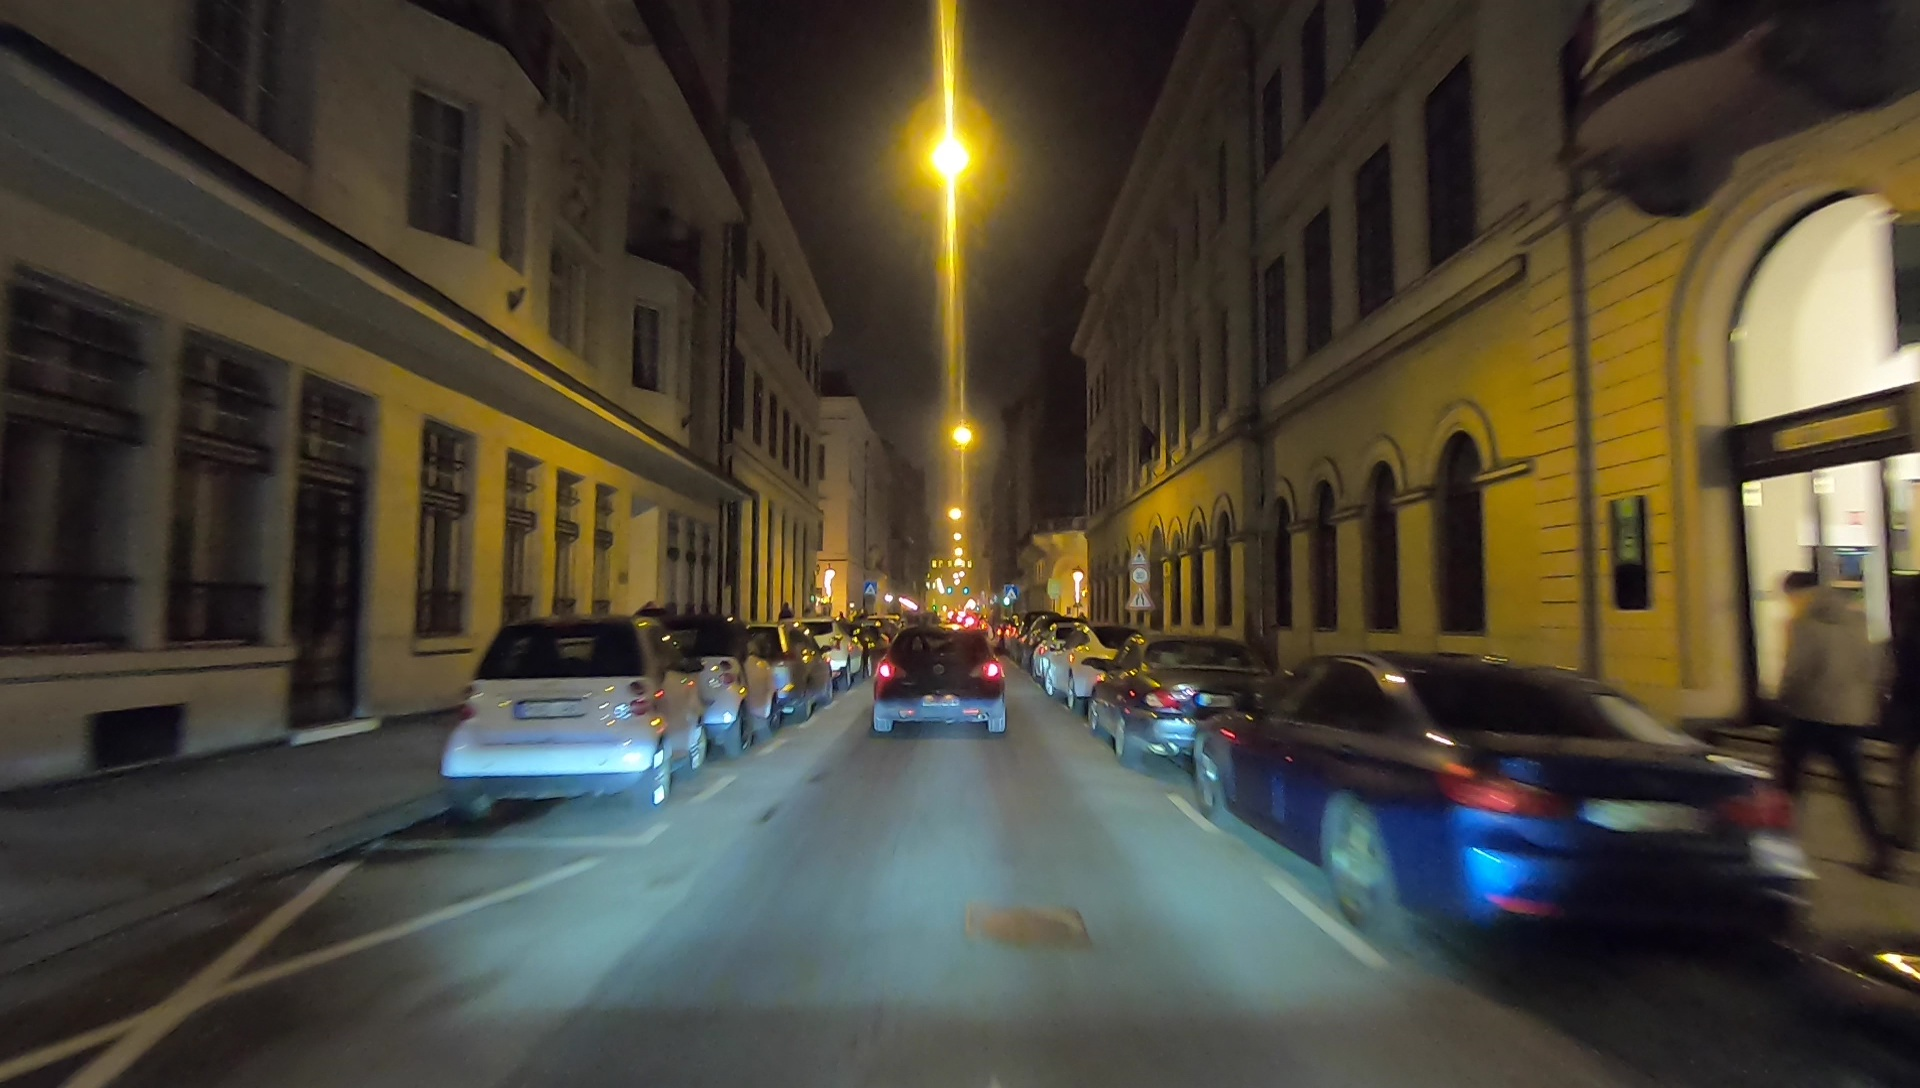person: (1765, 565, 1888, 880)
